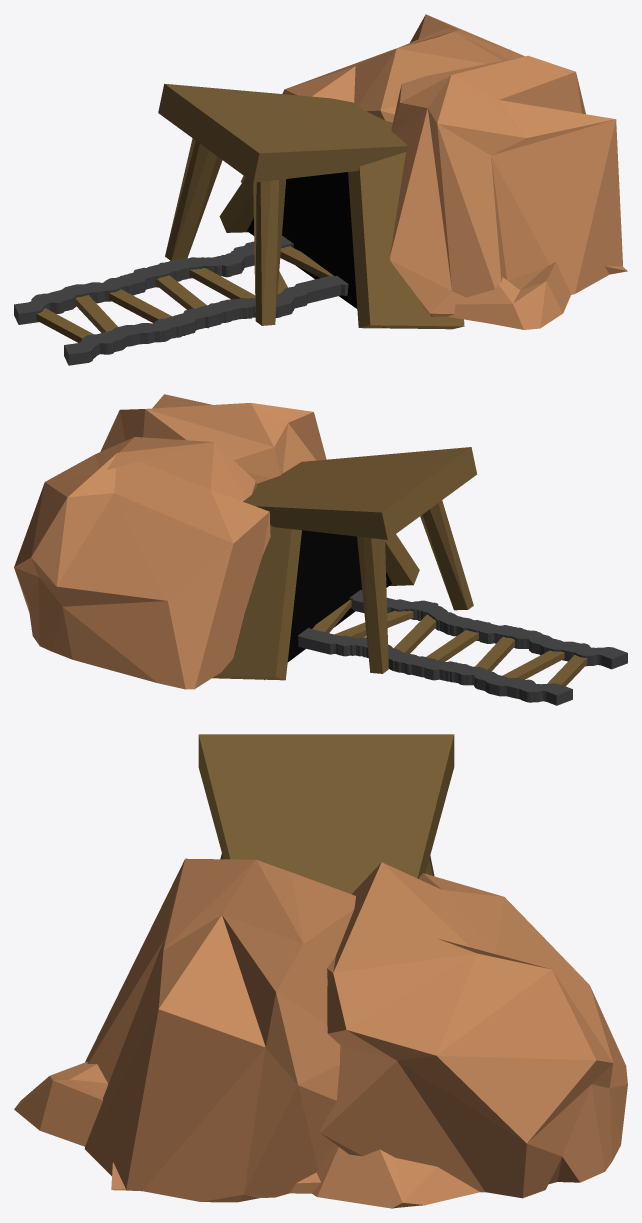
Rendered from mine_entrance_sandy.fbx.
3 renders of one model, top to bottom at view 1: azimuth 30°, elevation 25°; view 2: azimuth 150°, elevation 25°; view 3: azimuth 270°, elevation 25°, orthographic. The views are drawn at different scales.
Visible parts, largest first — view 1: Rock, Shaft, Rails, DARKNESS, Ties; view 2: Rock, Shaft, Rails, DARKNESS, Ties; view 3: Rock, Shaft.
Part boxes in pixels (left/top/right/bottom): Rock: left=240, top=14, right=627, bottom=329; Shaft: left=158, top=83, right=464, bottom=329; Rails: left=14, top=235, right=348, bottom=365; DARKNESS: left=247, top=172, right=384, bottom=327; Ties: left=36, top=246, right=333, bottom=342; Rock: left=14, top=394, right=326, bottom=689; Shaft: left=212, top=447, right=477, bottom=680; Rails: left=298, top=590, right=627, bottom=705; DARKNESS: left=264, top=530, right=391, bottom=679; Ties: left=312, top=600, right=587, bottom=686; Rock: left=14, top=858, right=627, bottom=1208; Shaft: left=198, top=734, right=454, bottom=894.
Size of the model in its own units: 1081 by 412 by 789.
